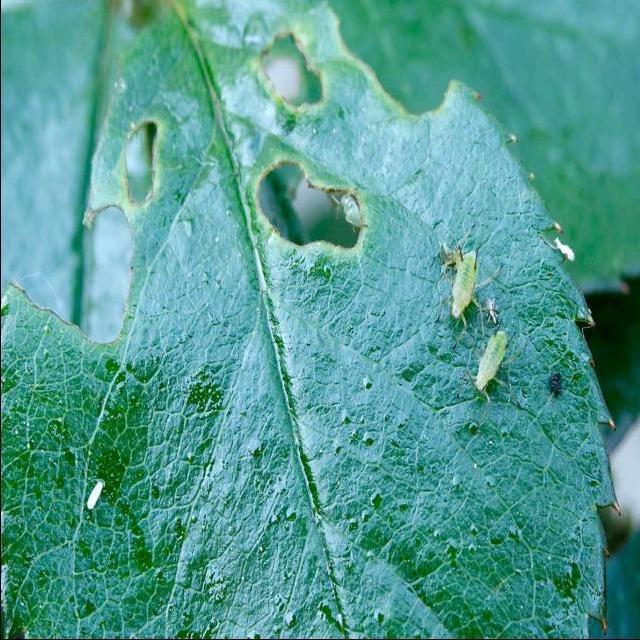aphid: (430, 210, 483, 333), (467, 316, 518, 416)
